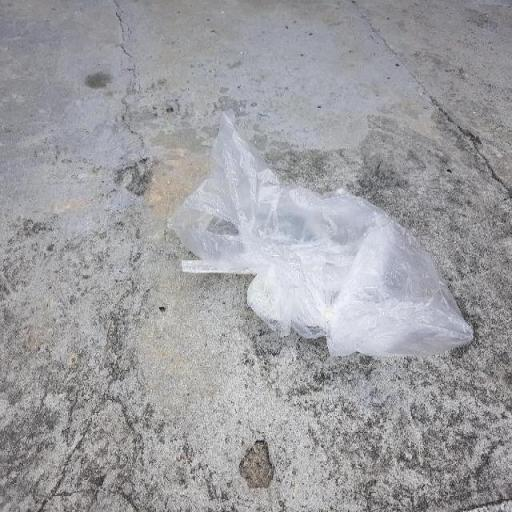plastic-bag: (164, 111, 477, 359)
